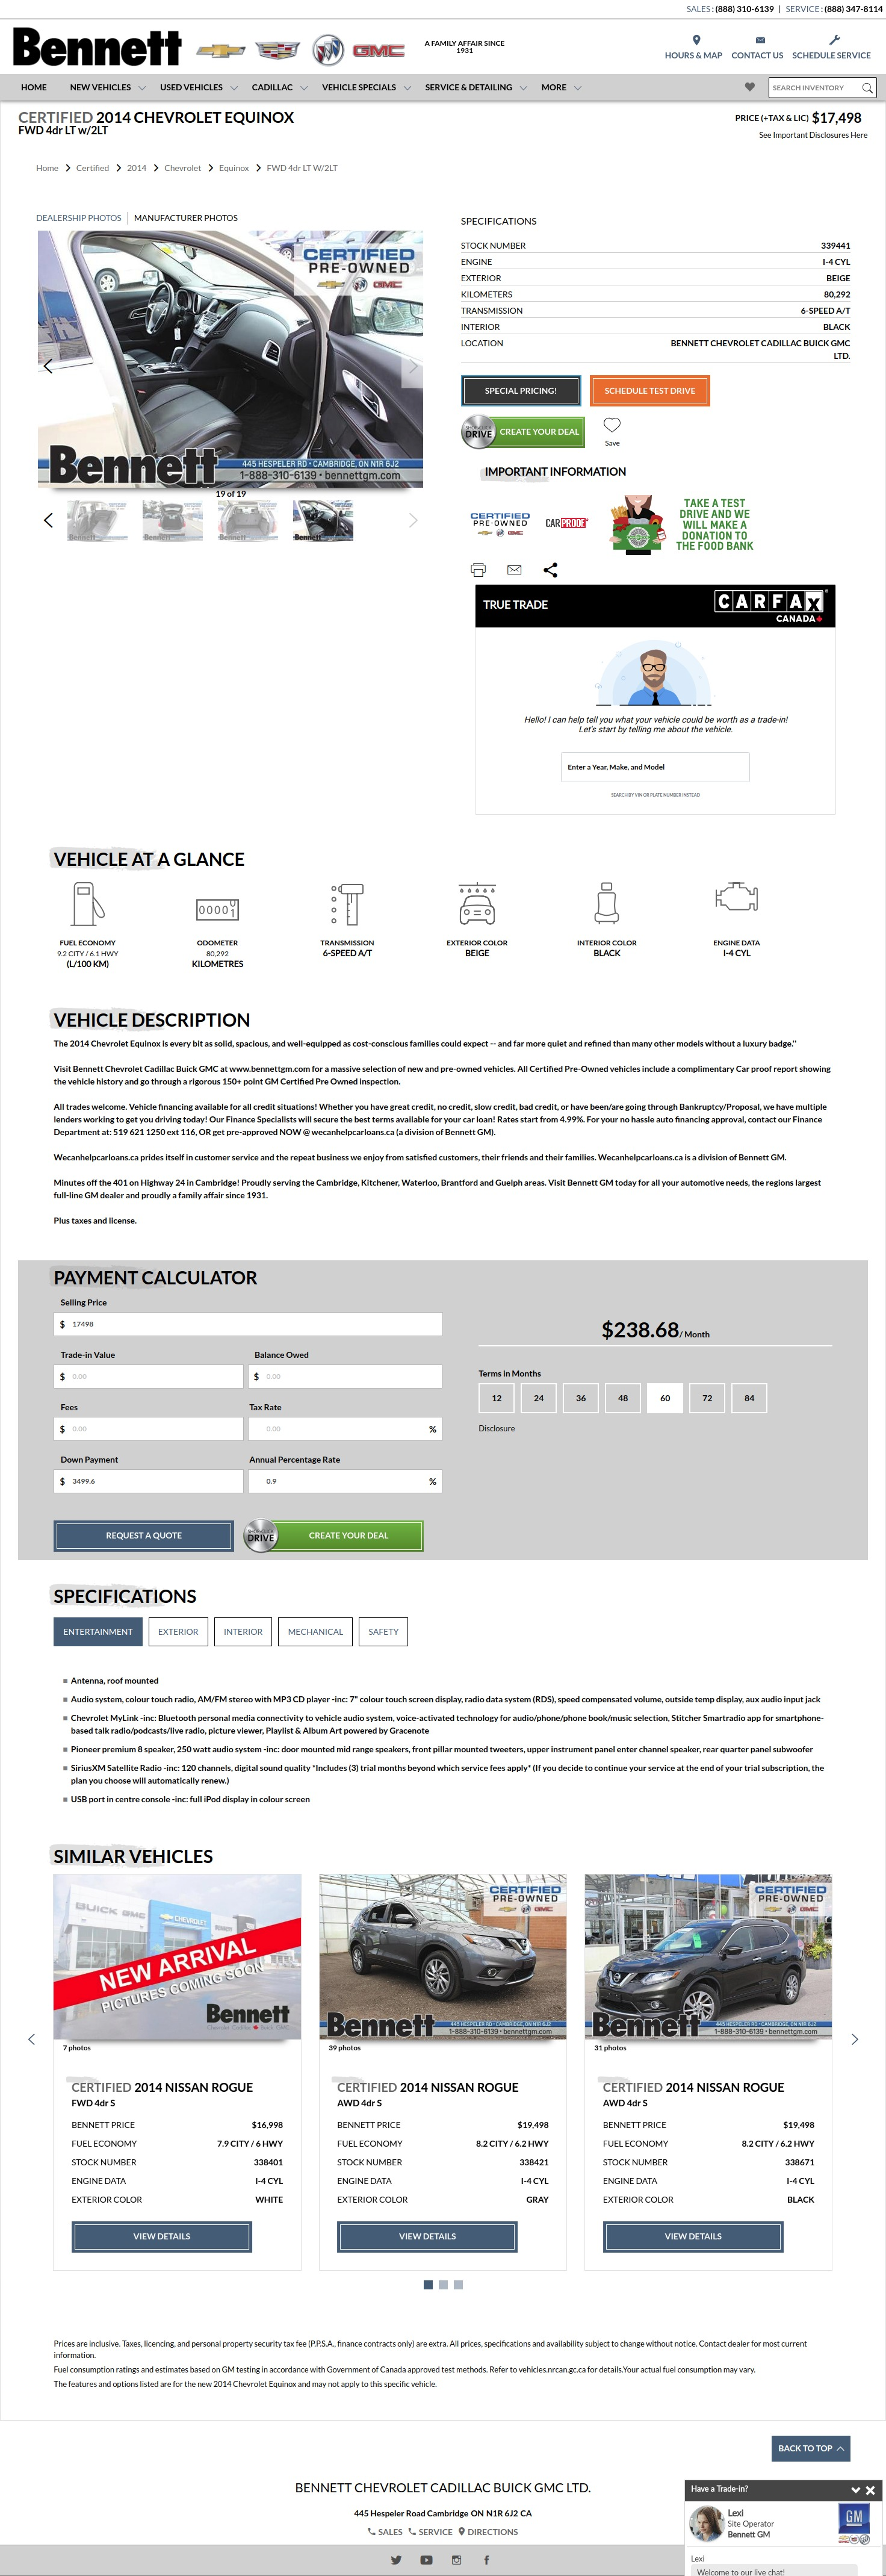car: (409, 513, 420, 529)
